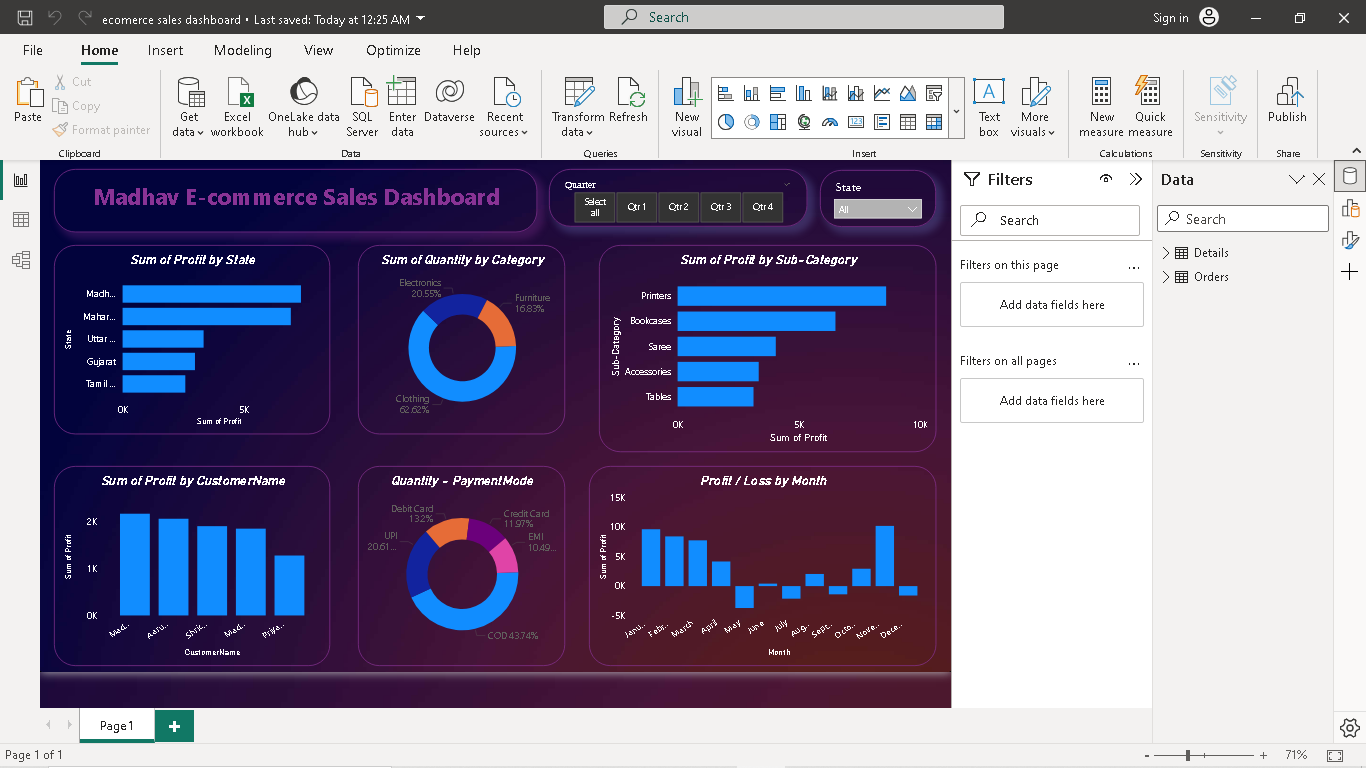

The page's visual inventory and layout, read from the dashboard file:
{"tool":"powerbi","page":{"name":"Page 1","canvas":[1280,720],"ordinal":0},"visuals":[{"type":"textbox","box":[19.7,12.6,678.6,88.5],"z":0},{"type":"columnChart","title":"Profit / Loss by Month","fields":{"Category":["Orders.Order Date.Variation.Date Hierarchy.Month"],"Y":["Details.Profit"]},"box":[771.4,429.9,487.6,281],"z":1000},{"type":"clusteredBarChart","fields":{"Category":["Details.Sub-Category"],"Y":["Details.Profit"]},"box":[785.4,119.4,473.5,290.8],"z":2000},{"type":"barChart","fields":{"Category":["Orders.State"],"Y":["Details.Profit"]},"box":[19.7,119.4,387.8,265.6],"z":3000},{"type":"donutChart","fields":{"Y":["Details.Quantity"],"Category":["Details.Category"]},"box":[446.8,119.4,290.8,265.6],"z":4000},{"type":"columnChart","fields":{"Y":["Details.Profit"],"Category":["Orders.CustomerName"]},"box":[20,430,388,281],"z":5000},{"type":"donutChart","title":"Quantity - PaymentMode","fields":{"Y":["Details.Quantity"],"Category":["Details.PaymentMode"]},"box":[447,430,291,281],"z":6000},{"type":"slicer","fields":{"Values":["Orders.Order Date.Variation.Date Hierarchy.Quarter"]},"box":[715.2,12.6,362.5,81.5],"z":7000},{"type":"slicer","fields":{"Values":["Orders.State"]},"box":[1095.9,14.1,163,80.1],"z":8000}]}

Visuals, with their boxes on the page's 1280x720 design canvas (x1, y1, x2, y2). These are canvas units, not pixel positions in the 1366x768 screenshot, which may show the page scaled, cropped or inside an application window:
textbox: [20,13,698,101]
"Profit / Loss by Month" columnChart: [771,430,1259,711]
clusteredBarChart - Details.Sub-Category x Details.Profit: [785,119,1259,410]
barChart - Orders.State x Details.Profit: [20,119,408,385]
donutChart - Details.Quantity x Details.Category: [447,119,738,385]
columnChart - Details.Profit x Orders.CustomerName: [20,430,408,711]
"Quantity - PaymentMode" donutChart: [447,430,738,711]
slicer - Orders.Order Date.Variation.Date Hierarchy.Quarter: [715,13,1078,94]
slicer - Orders.State: [1096,14,1259,94]
